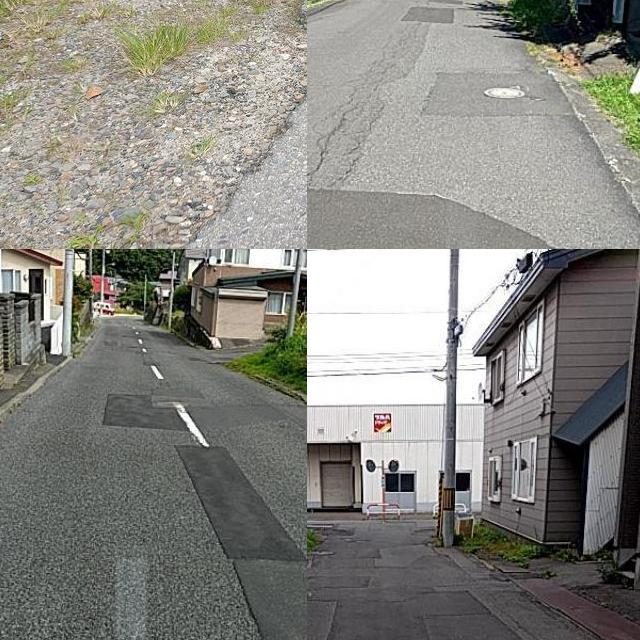Pinggir: (70, 0, 307, 249)
Sambungan: (178, 445, 307, 640), (307, 186, 566, 249), (326, 593, 524, 640), (423, 71, 582, 122), (105, 394, 188, 426), (404, 5, 464, 25)
